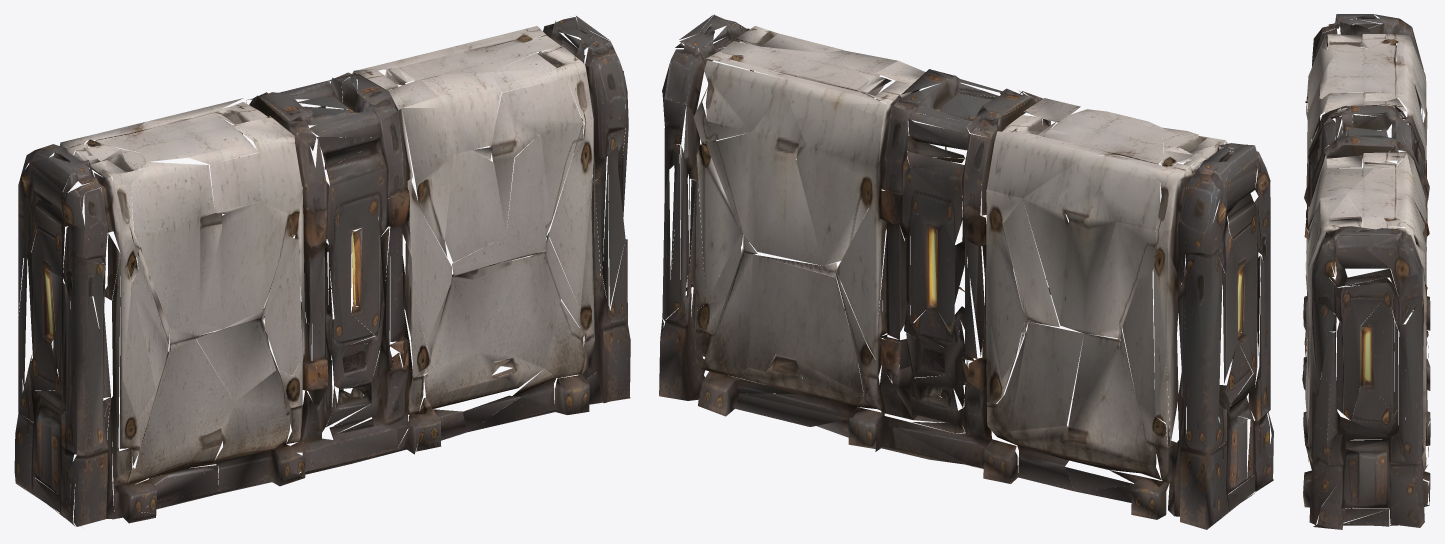
The picture shows the model from 3 angles, left to right: view 1: azimuth 30°, elevation 25°; view 2: azimuth 150°, elevation 25°; view 3: azimuth 270°, elevation 25°; orthographic projection. The views are drawn at different scales.
Visible parts, largest first — view 1: CAMP-A06_Body; view 2: CAMP-A06_Body; view 3: CAMP-A06_Body.
Boxes of the visible parts, left/top/right/bottom form: CAMP-A06_Body: left=14, top=16, right=630, bottom=526; CAMP-A06_Body: left=659, top=14, right=1273, bottom=529; CAMP-A06_Body: left=1302, top=14, right=1430, bottom=529.
Size of the model in its own units: 2.01 by 1.19 by 0.4743.
Materials: 1 (1 with a texture image).
